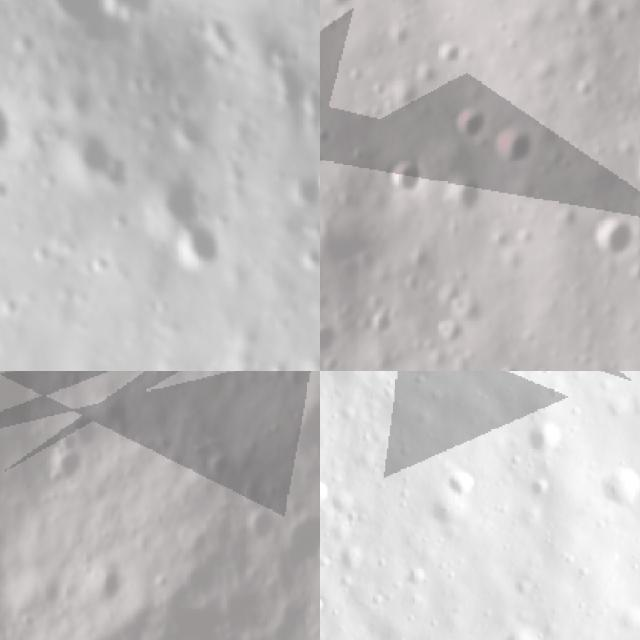crater: (58, 122, 127, 188), (141, 168, 207, 226), (504, 411, 565, 467), (594, 455, 640, 516), (86, 563, 135, 619), (182, 219, 230, 276), (590, 214, 639, 267), (48, 450, 97, 496), (444, 101, 493, 146), (492, 122, 534, 173), (445, 172, 483, 221), (448, 462, 484, 510), (242, 504, 282, 547), (418, 496, 457, 539), (388, 155, 424, 200), (0, 82, 16, 171), (290, 164, 320, 209), (502, 574, 539, 608), (570, 0, 612, 28), (485, 623, 549, 640), (436, 33, 462, 68), (222, 355, 277, 371), (320, 316, 339, 358), (320, 0, 366, 15), (320, 474, 333, 517)
